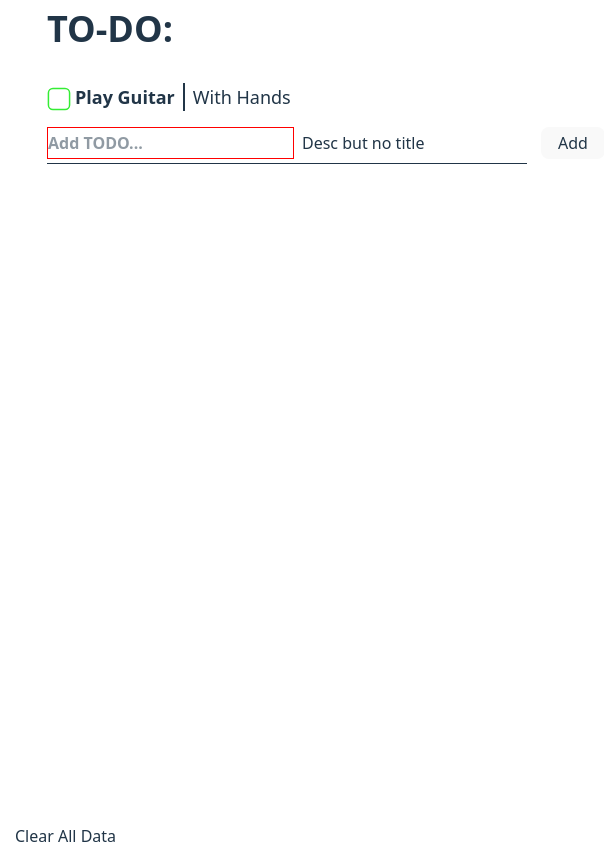
Scenario: App › should edit the item
The image size is (604, 859).
Check: the text "Play Guitar" is shown, box [75,85,175,109]
Check: the text "With Hands" is shown, box [193,85,291,109]
Hover over the element with test id "item-div".
mouse_move(169, 97)  # box [47,83,291,111]
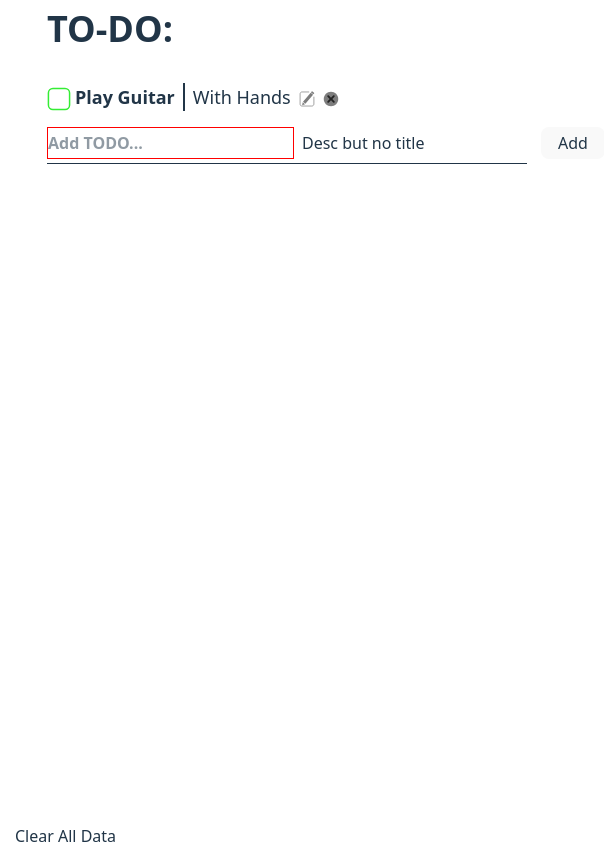
Check: the icon with test id "edit-icon" is shown
Click the icon with test id "edit-icon".
click(307, 99)  # box [299,91,315,107]
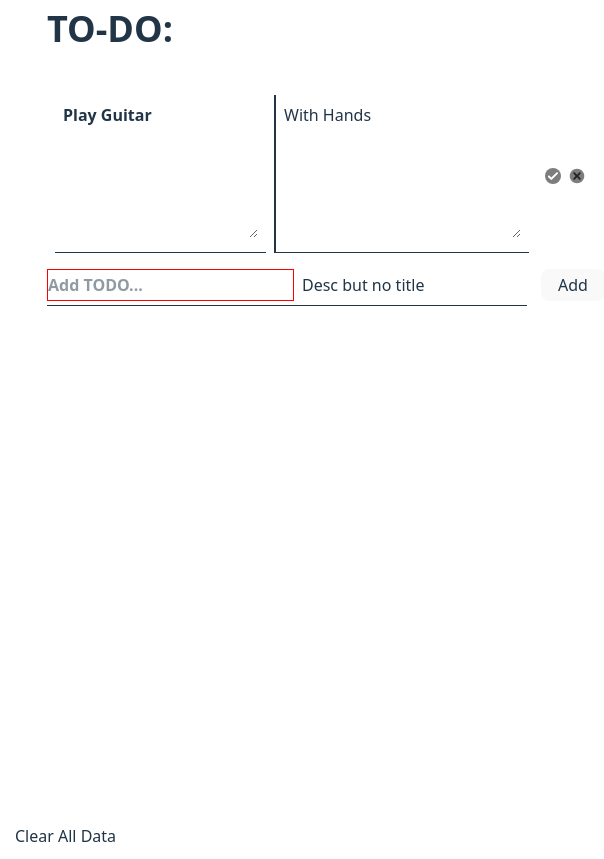
Replace the text in the text box named "ta-title" with "Play Air Guitar" at [160, 170], box [63,103,258,238]
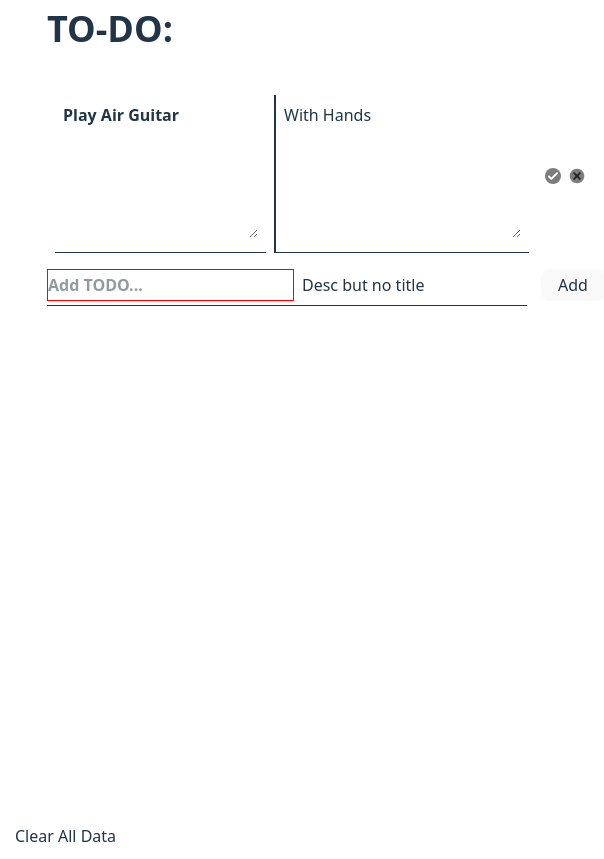
Replace the text in the text box named "ta-desc" with "With Style" at [402, 170], box [284,103,521,238]
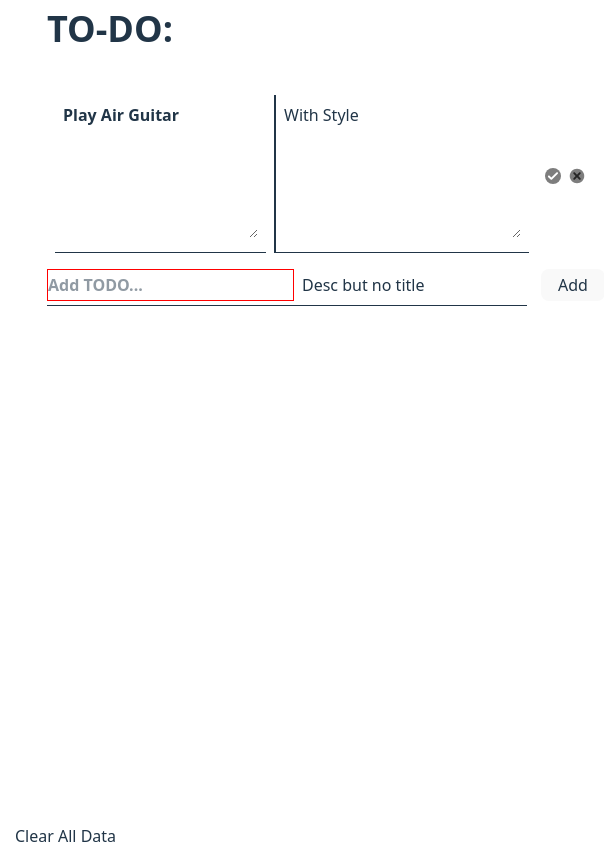
Check: the icon with test id "ok-icon" is shown
Click the icon with test id "ok-icon".
click(553, 176)  # box [545,168,561,184]
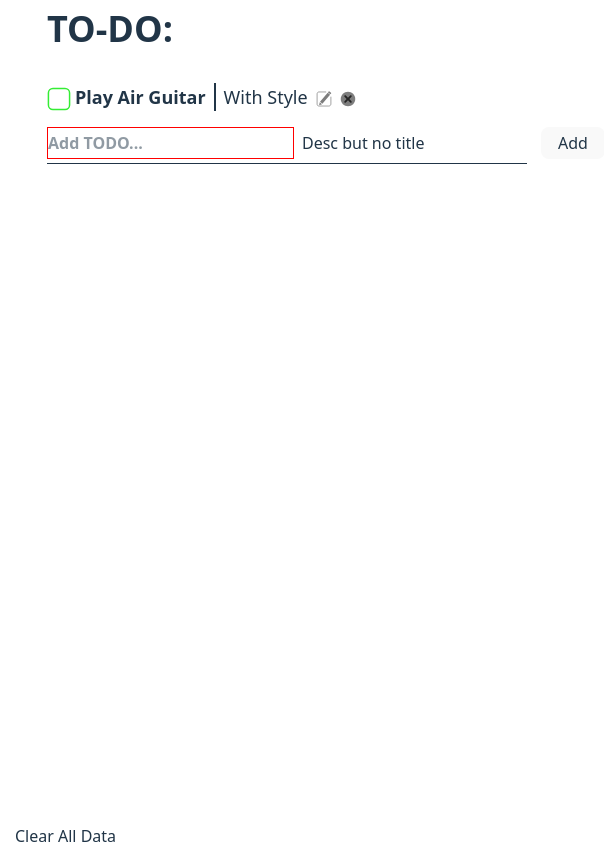
Check: the text "Play Air Guitar" is shown, box [75,85,206,109]
Check: the text "With Style" is shown, box [224,85,308,109]
